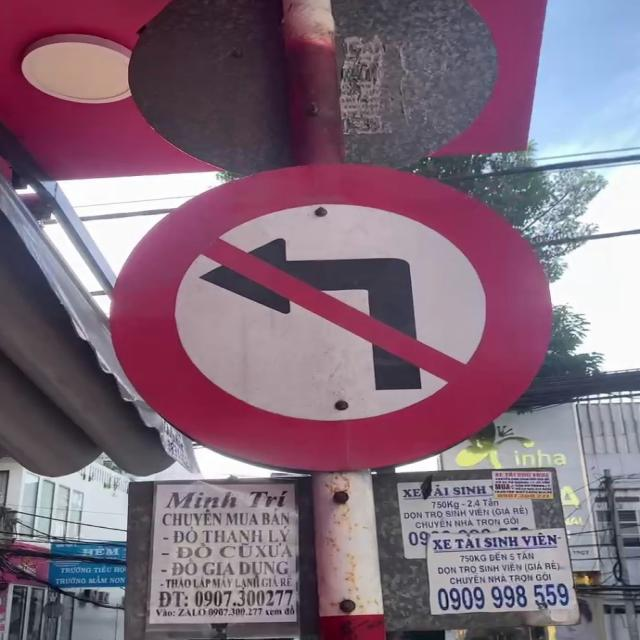Cam_Re_Trai: (106, 162, 554, 472)
